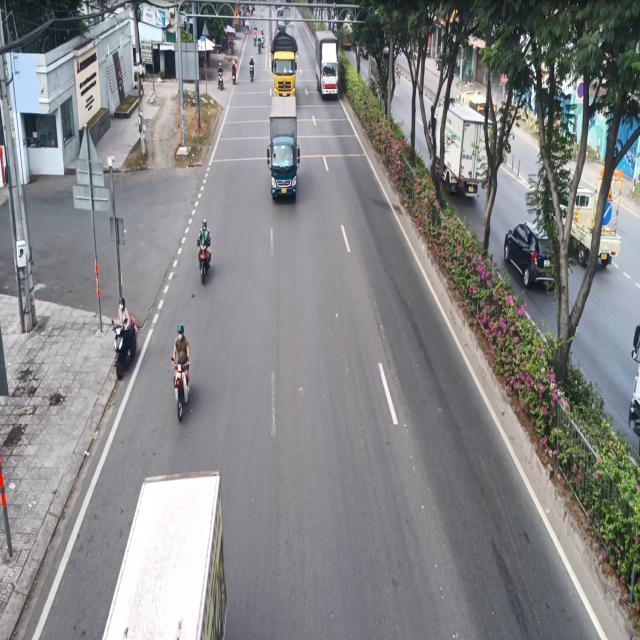motor: (171, 324, 195, 428), (110, 296, 136, 374), (196, 215, 216, 288)
truck: (264, 97, 306, 208), (313, 28, 340, 98), (272, 34, 296, 98)
